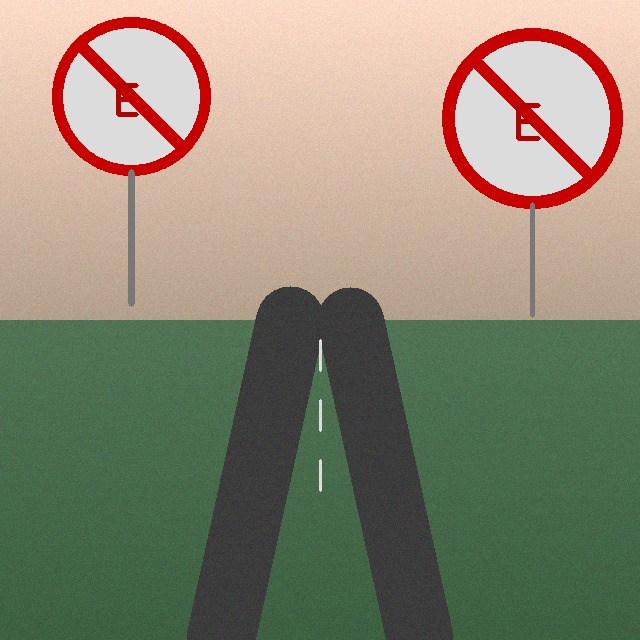no_estacionar: (446, 32, 618, 204), (55, 20, 207, 172)
